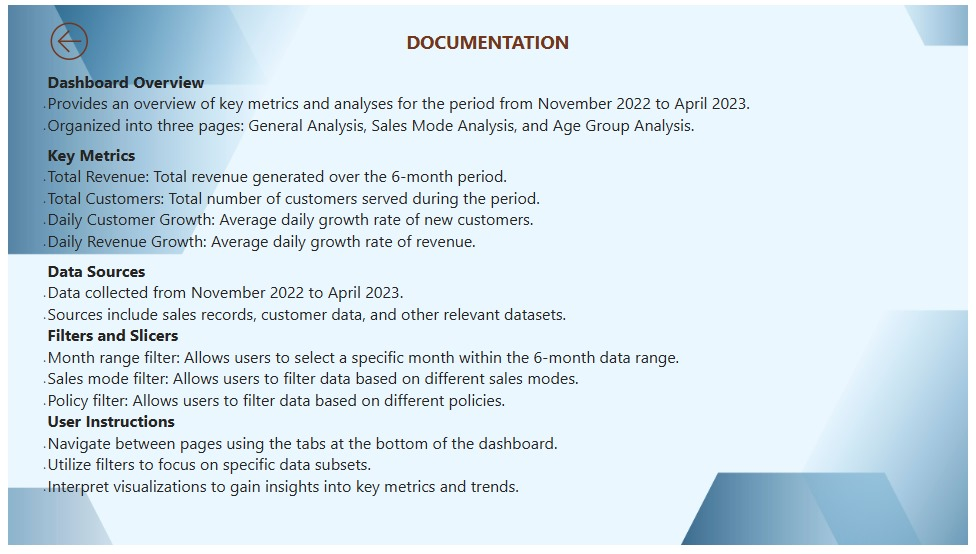

The dashboard page shown, as its layout file describes it:
{"tool":"powerbi","page":{"name":"DOCUMENTATION","canvas":[1920,1080],"ordinal":4},"visuals":[{"type":"textbox","box":[55.8,41.9,1807,995.3],"z":0},{"type":"actionButton","box":[76.7,25.6,100,93],"z":1}]}

Visuals, with their boxes in screenshot pixels (x1, y1, x2, y2), scaled from the page's 1920x1080 canvas onto the 976x554 screenshot:
textbox: [28,21,947,532]
actionButton: [39,13,90,61]
